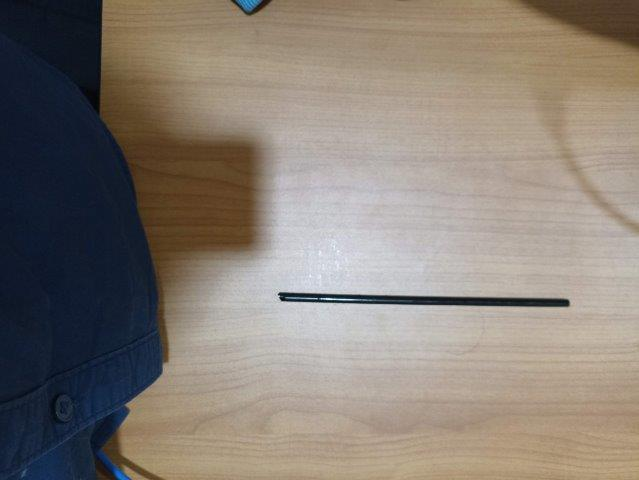sedotan: (278, 292, 570, 307)
